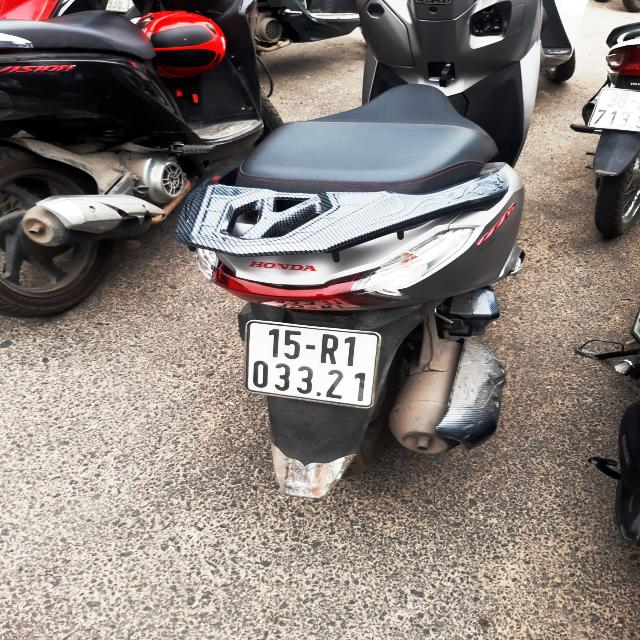license_plate: (238, 315, 387, 418)
